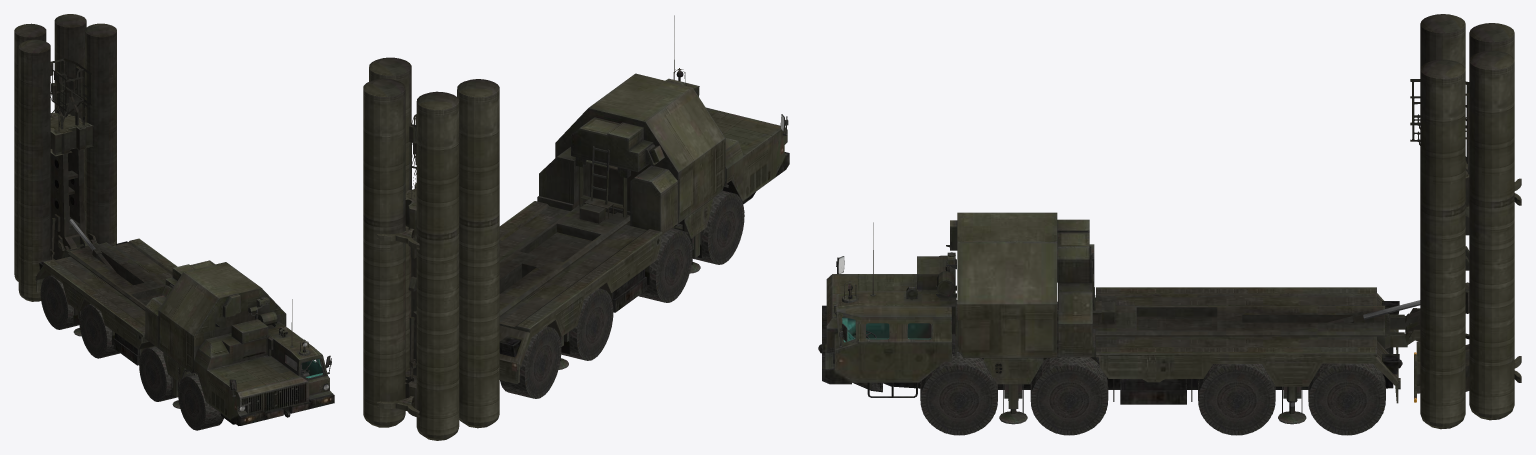
File: ussr_ai_sam_launcher_5p85se_shop.obj
The picture shows the model from 3 angles, left to right: view 1: azimuth 30°, elevation 25°; view 2: azimuth 150°, elevation 25°; view 3: azimuth 270°, elevation 25°; orthographic projection. The views are drawn at different scales.
Visible parts, largest first — view 1: vehicle#body_0, vehicle#launcher_02_29, vehicle#gun_mask_32, vehicle#launcher_01_30, vehicle#wheel_r_01_3, vehicle#wheel_r_02_4, vehicle#wheel_r_03_6, vehicle#wheel_r_04_33; view 2: vehicle#body_0, vehicle#launcher_01_30, vehicle#launcher_02_29, vehicle#gun_mask_32, vehicle#wheel_r_02_4, vehicle#wheel_r_04_33, vehicle#wheel_r_01_3, vehicle#wheel_r_03_6; view 3: vehicle#body_0, vehicle#launcher_02_29, vehicle#launcher_01_30, vehicle#wheel_l_02_2, vehicle#wheel_l_01_1, vehicle#wheel_l_04_7, vehicle#wheel_l_03_5, vehicle#gun_mask_32.
Boxes of the visible parts, x1=… form: vehicle#body_0: x1=35, y1=238, x2=334, y2=425; vehicle#launcher_02_29: x1=18, y1=23, x2=116, y2=301; vehicle#gun_mask_32: x1=50, y1=58, x2=96, y2=260; vehicle#launcher_01_30: x1=14, y1=14, x2=86, y2=281; vehicle#wheel_r_01_3: x1=178, y1=375, x2=223, y2=430; vehicle#wheel_r_02_4: x1=139, y1=346, x2=178, y2=401; vehicle#wheel_r_03_6: x1=79, y1=304, x2=119, y2=358; vehicle#wheel_r_04_33: x1=40, y1=275, x2=79, y2=329; vehicle#body_0: x1=499, y1=15, x2=789, y2=383; vehicle#launcher_01_30: x1=363, y1=78, x2=459, y2=440; vehicle#launcher_02_29: x1=369, y1=57, x2=499, y2=428; vehicle#gun_mask_32: x1=377, y1=114, x2=419, y2=417; vehicle#wheel_r_02_4: x1=639, y1=229, x2=692, y2=302; vehicle#wheel_r_04_33: x1=500, y1=326, x2=561, y2=398; vehicle#wheel_r_01_3: x1=692, y1=190, x2=744, y2=264; vehicle#wheel_r_03_6: x1=561, y1=288, x2=613, y2=360; vehicle#body_0: x1=818, y1=212, x2=1415, y2=424; vehicle#launcher_02_29: x1=1420, y1=14, x2=1465, y2=429; vehicle#launcher_01_30: x1=1469, y1=23, x2=1514, y2=420; vehicle#wheel_l_02_2: x1=1030, y1=353, x2=1108, y2=435; vehicle#wheel_l_01_1: x1=920, y1=352, x2=997, y2=435; vehicle#wheel_l_04_7: x1=1308, y1=363, x2=1385, y2=435; vehicle#wheel_l_03_5: x1=1198, y1=364, x2=1275, y2=435; vehicle#gun_mask_32: x1=1405, y1=79, x2=1521, y2=402.
Size of the model in its own units: 3.29 by 7.99 by 13.94.
Materials: 9 (8 with a texture image).
